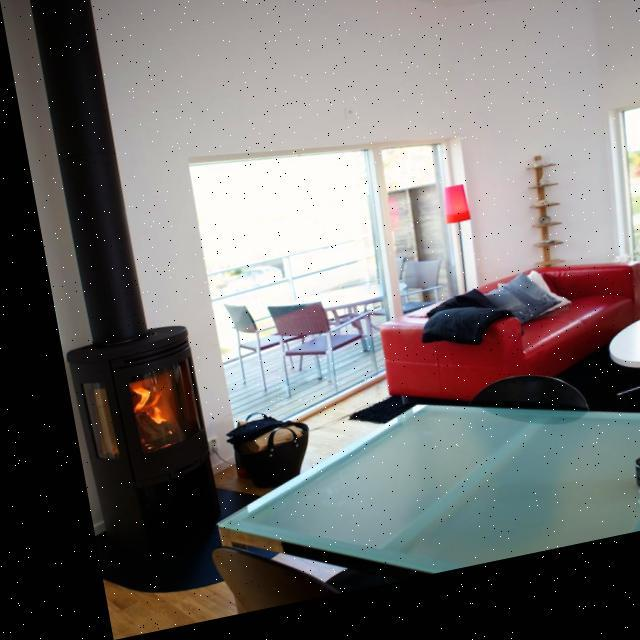Fire: (104, 358, 178, 460)
